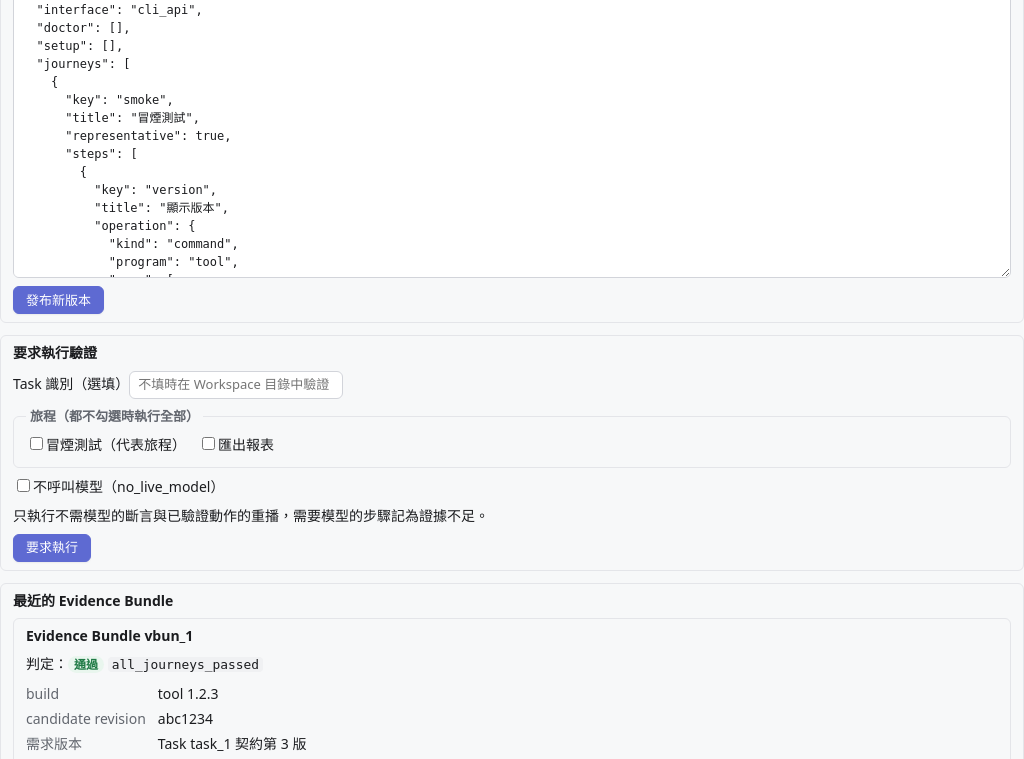
驗證 › 要求執行：送出 Task 識別與勾選的旅程，顯示已排入
The width and height of the screenshot is (1024, 759).
(page scrolled)
Type " task_1 " into the field labelled "Task 識別（選填）". click: (236, 384)
box: [129,370,343,398]
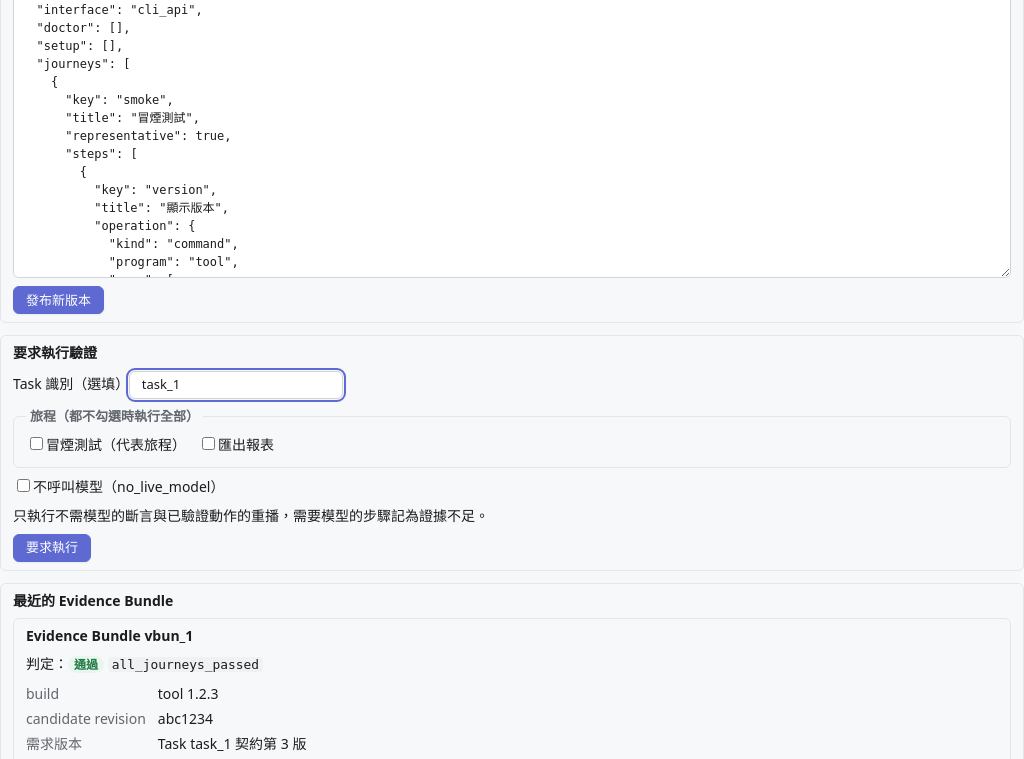
Click the checkbox labelled "匯出報表". click: (208, 444)
box: [202,437,215,450]
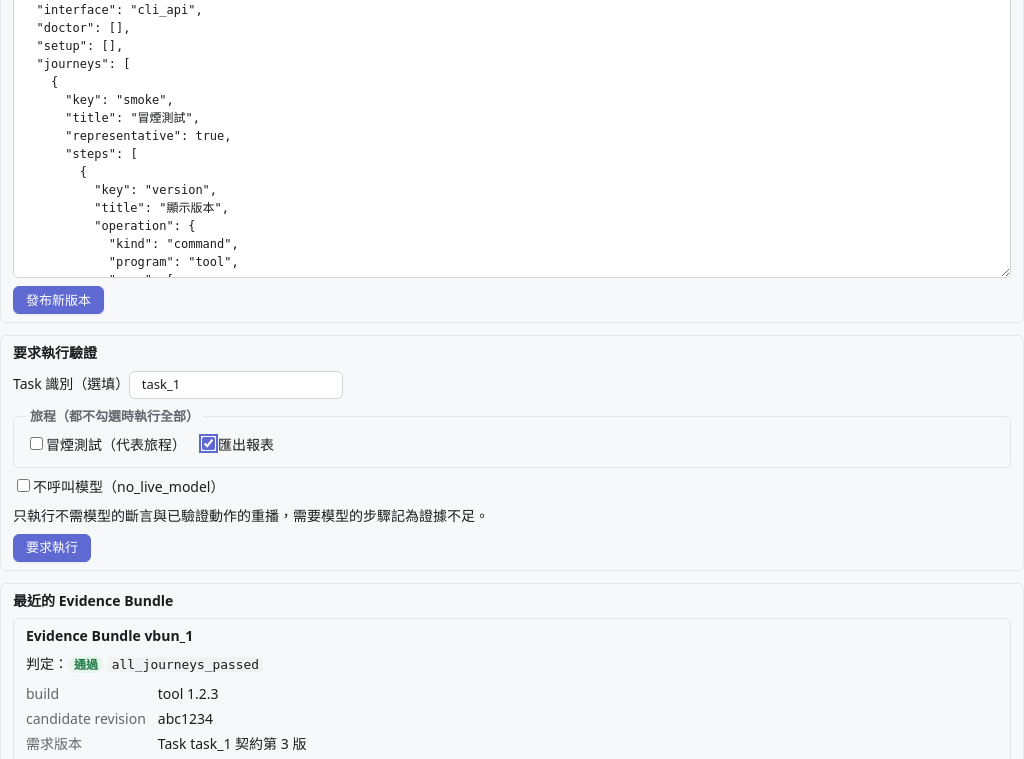
Expected: the checkbox labelled "冒煙測試（代表旅程）" is not checked, [30,437,43,450]
Click the button "要求執行". click: (52, 548)
box: [13,534,91,562]
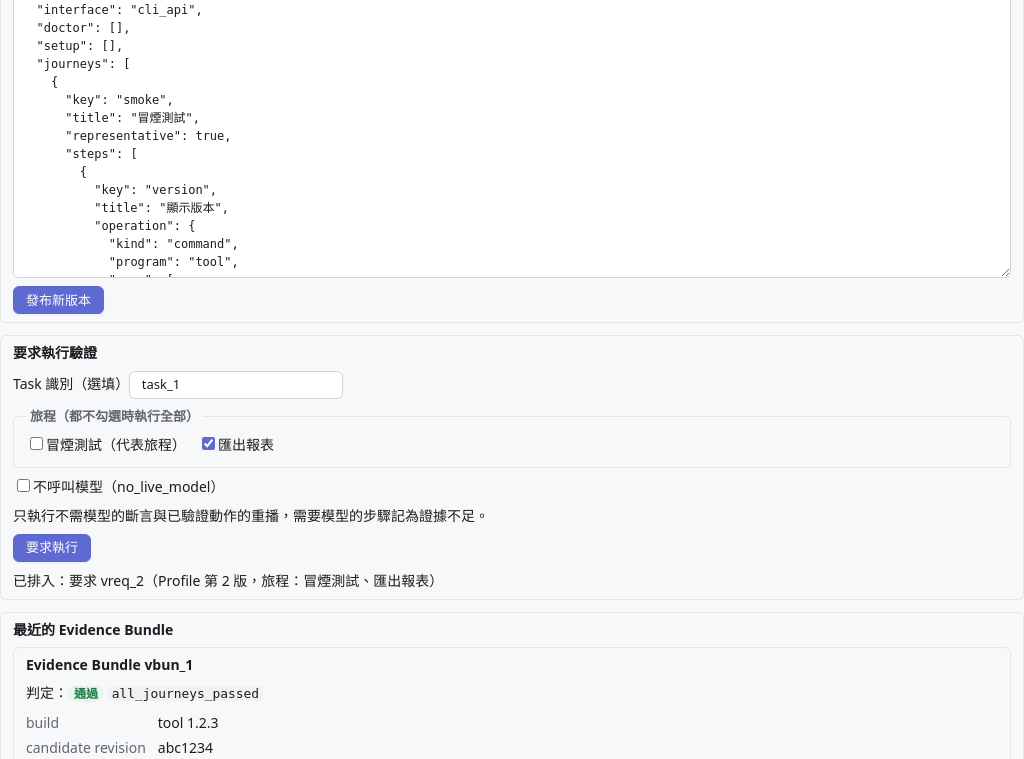
Expected: the message reads "已排入：要求 vreq_2（Profile 第 2 版，旅程：冒煙測試、匯出報表）", [13,571,443,590]
